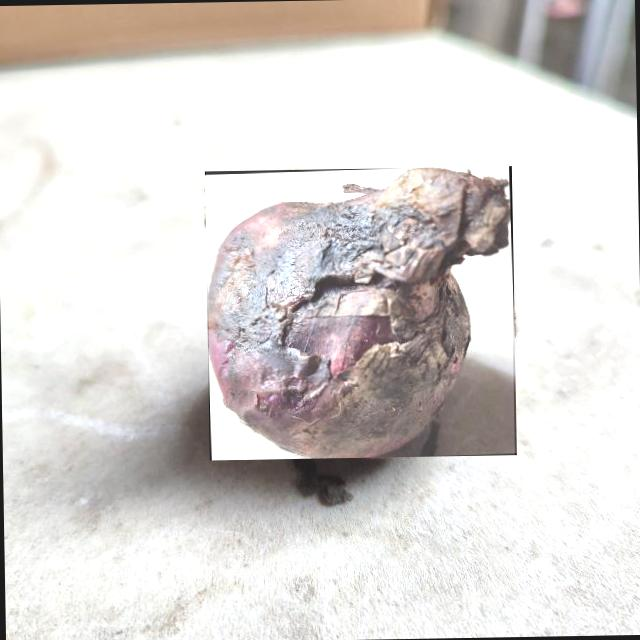rotten: (208, 167, 510, 458)
